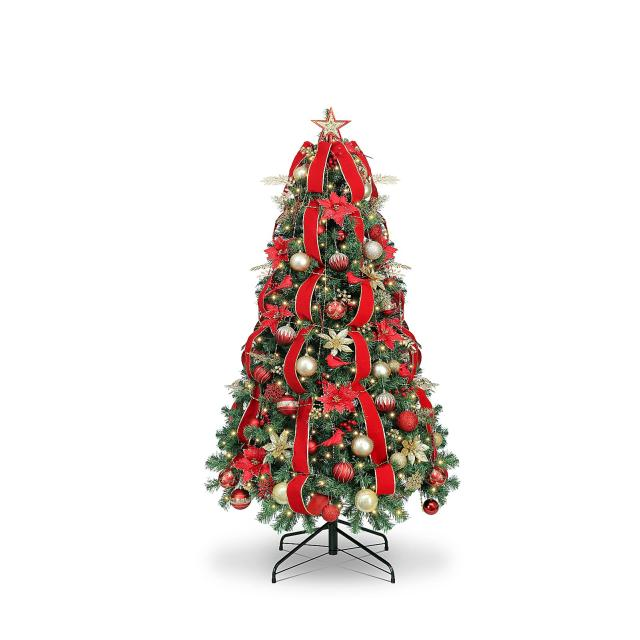Christmas-tree: (188, 100, 466, 532)
